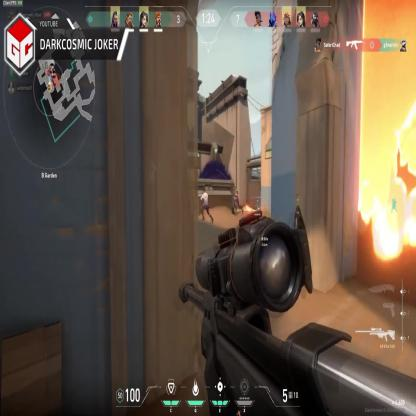enemy: (201, 190, 212, 222), (233, 186, 242, 214)
enemy_head: (234, 186, 236, 190), (203, 190, 205, 193)
